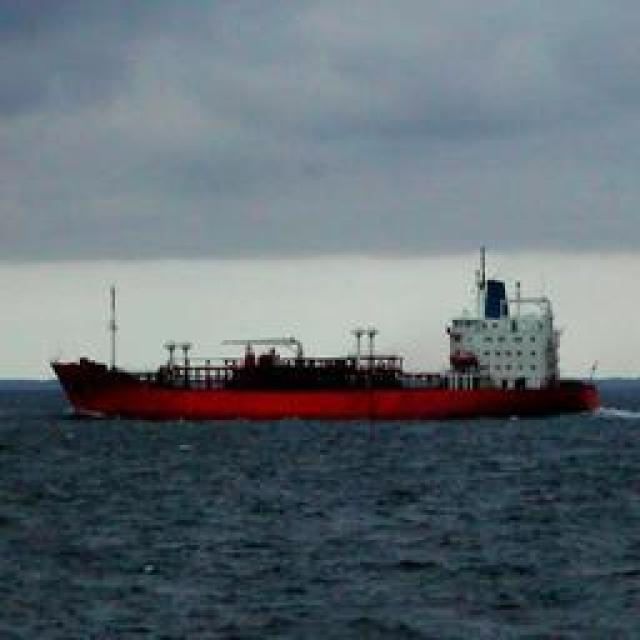ship2: (49, 243, 601, 421)
